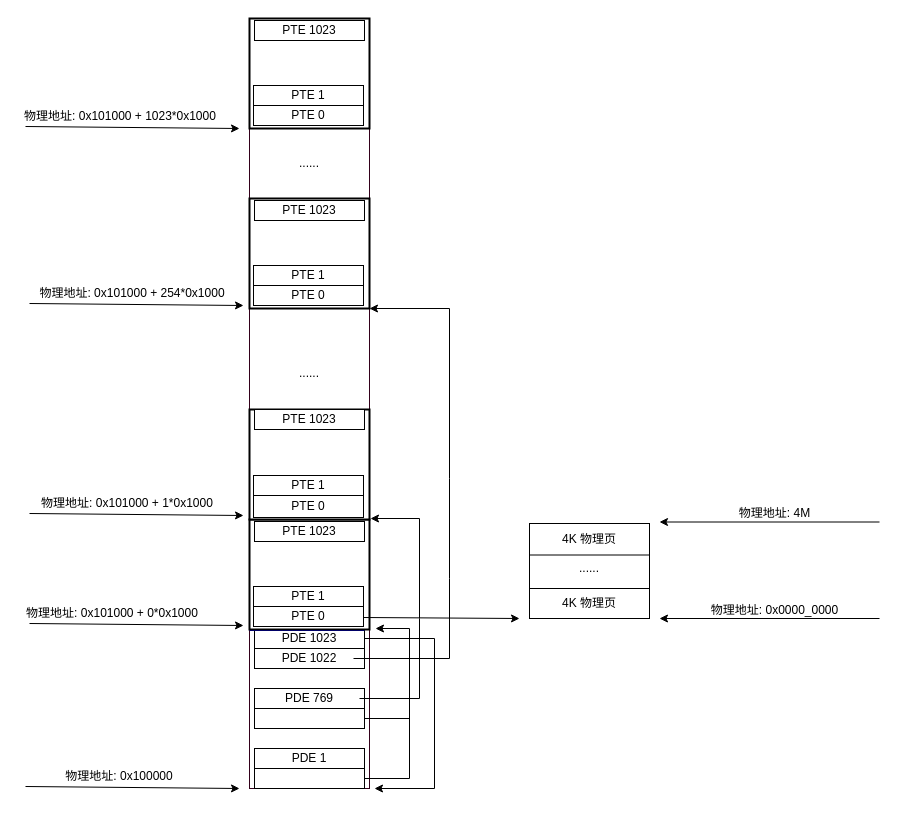
This 905x814 diagram has some shape labels left out. Here are the shapes that lost their labels. From the top down, the box of each, then its label:
(254, 708, 364, 728): PDE 768
(254, 768, 364, 788): PDE 0
